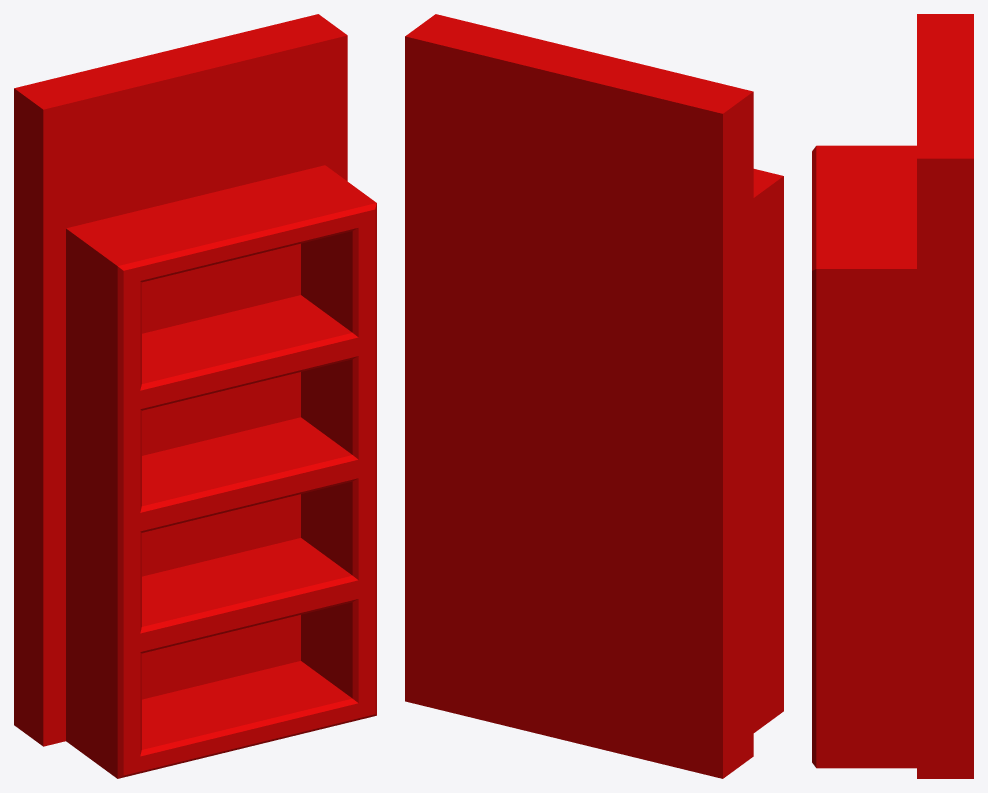
The model's file is shelf.fbx.
3 views of the same model, side by side, from view 1: azimuth 30°, elevation 25°; view 2: azimuth 150°, elevation 25°; view 3: azimuth 270°, elevation 25° (orthographic). The views are drawn at different scales.
Visible parts, largest first — view 1: pCube3; view 2: pCube3; view 3: pCube3.
Boxes of the visible parts, x1,y1,x2,y2 form: pCube3: (14,14,376,778); pCube3: (405,14,783,778); pCube3: (812,14,973,778).
Size of the model in its own units: 12 by 24 by 5.67.
